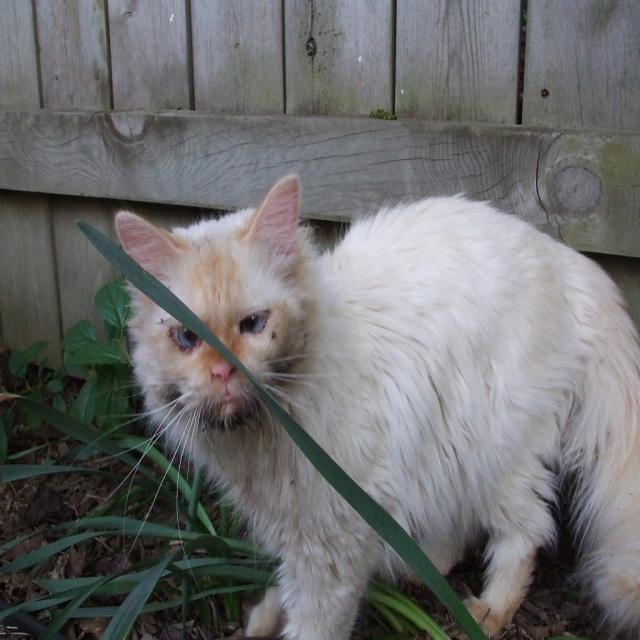Cat: (66, 172, 640, 639)
